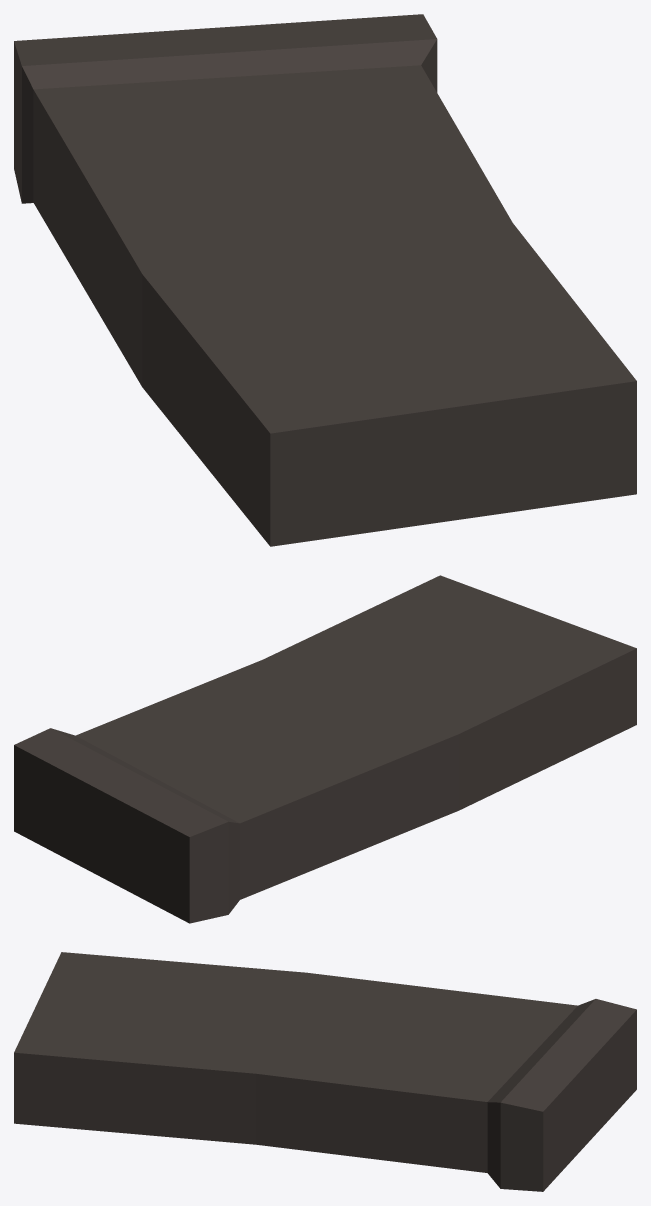
Rendered from AsValMag.glb.
3 views of the same model, one above another, from view 1: azimuth 30°, elevation 25°; view 2: azimuth 150°, elevation 25°; view 3: azimuth 270°, elevation 25° (orthographic). The views are drawn at different scales.
Visible parts, largest first — view 1: AsValMag; view 2: AsValMag; view 3: AsValMag.
Part boxes in pixels (left/top/right/bottom): AsValMag: left=14, top=14, right=636, bottom=546; AsValMag: left=14, top=575, right=636, bottom=923; AsValMag: left=14, top=952, right=636, bottom=1191.
Size of the model in its own units: 0.5405 by 0.1324 by 0.8662.
Materials: 1 (1 with a texture image).
